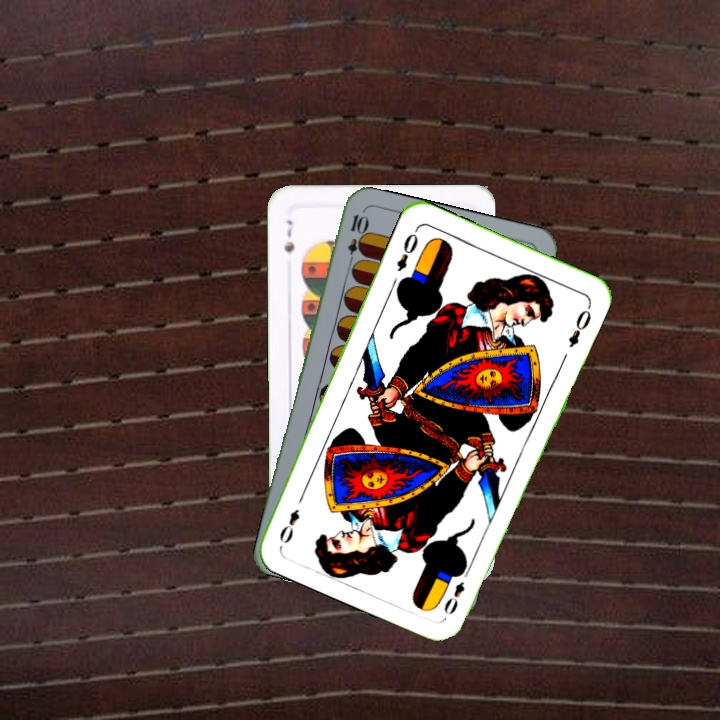E10: (343, 210, 368, 269)
EO: (439, 563, 473, 618), (392, 224, 421, 275)
S7: (280, 216, 297, 256)
